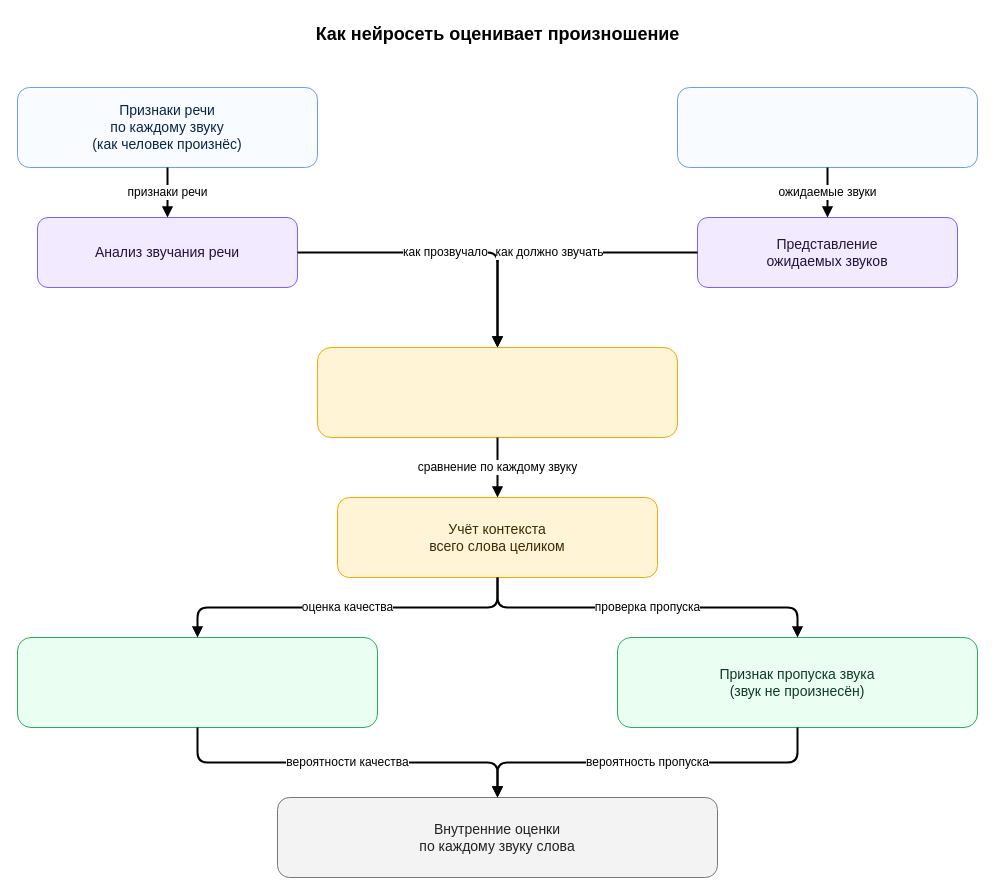
Some shapes in this 995 by 895 pixel diagram are drawn without their labels. The shapes that lost their labels are listed below. From the top down, each one's box as (x1, y1, x2, y2) in pixels, then its label:
(676, 86, 978, 168): Ожидаемые звуки слова (как должно звучать)
(316, 346, 678, 438): Объединение: сравнение реального звучания с ожидаемым произношением
(16, 636, 378, 728): Оценка качества каждого звука: неверно / с акцентом / верно
